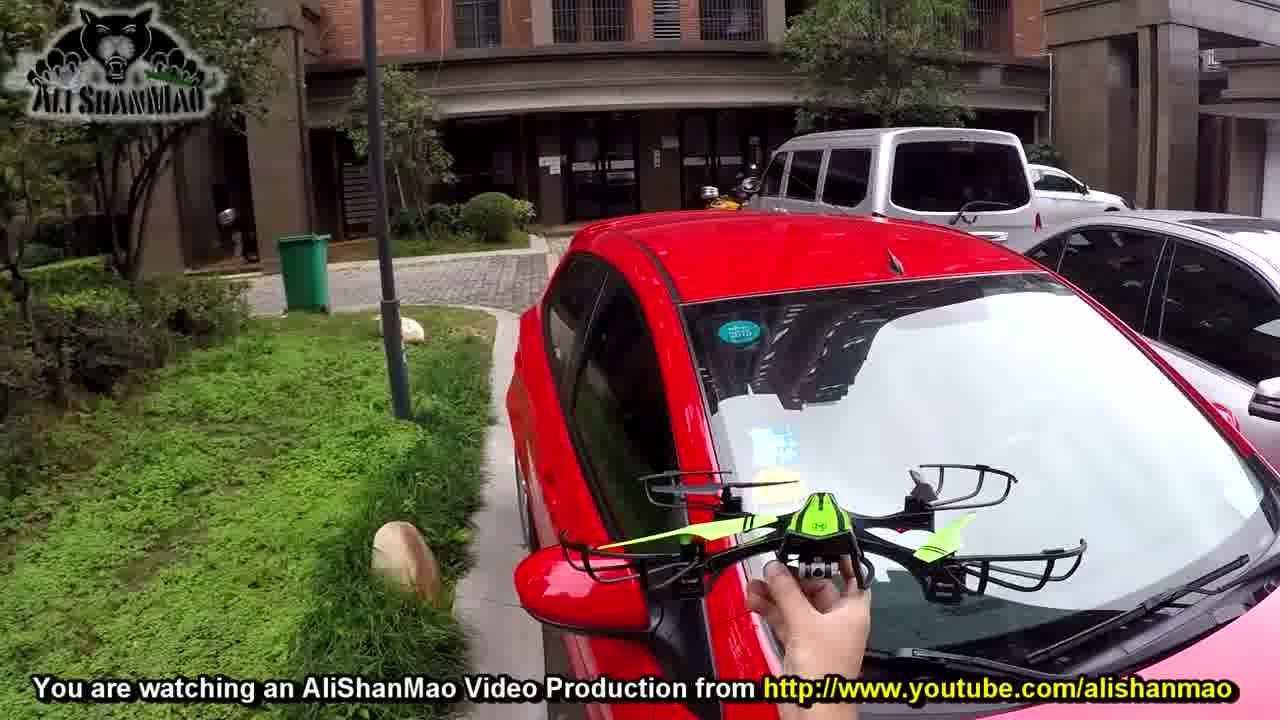Drone: (556, 467, 1088, 602)
